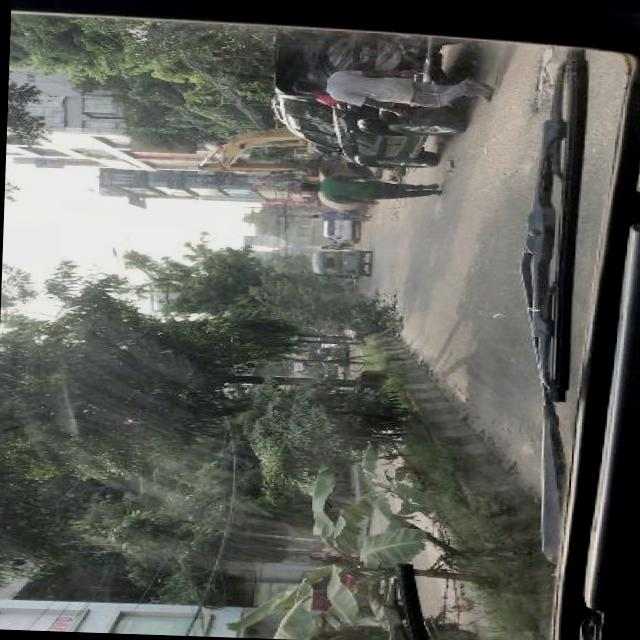car: (268, 25, 468, 171), (321, 218, 361, 243)
motorcycle: (298, 562, 402, 624), (312, 248, 368, 276), (317, 343, 349, 357)
